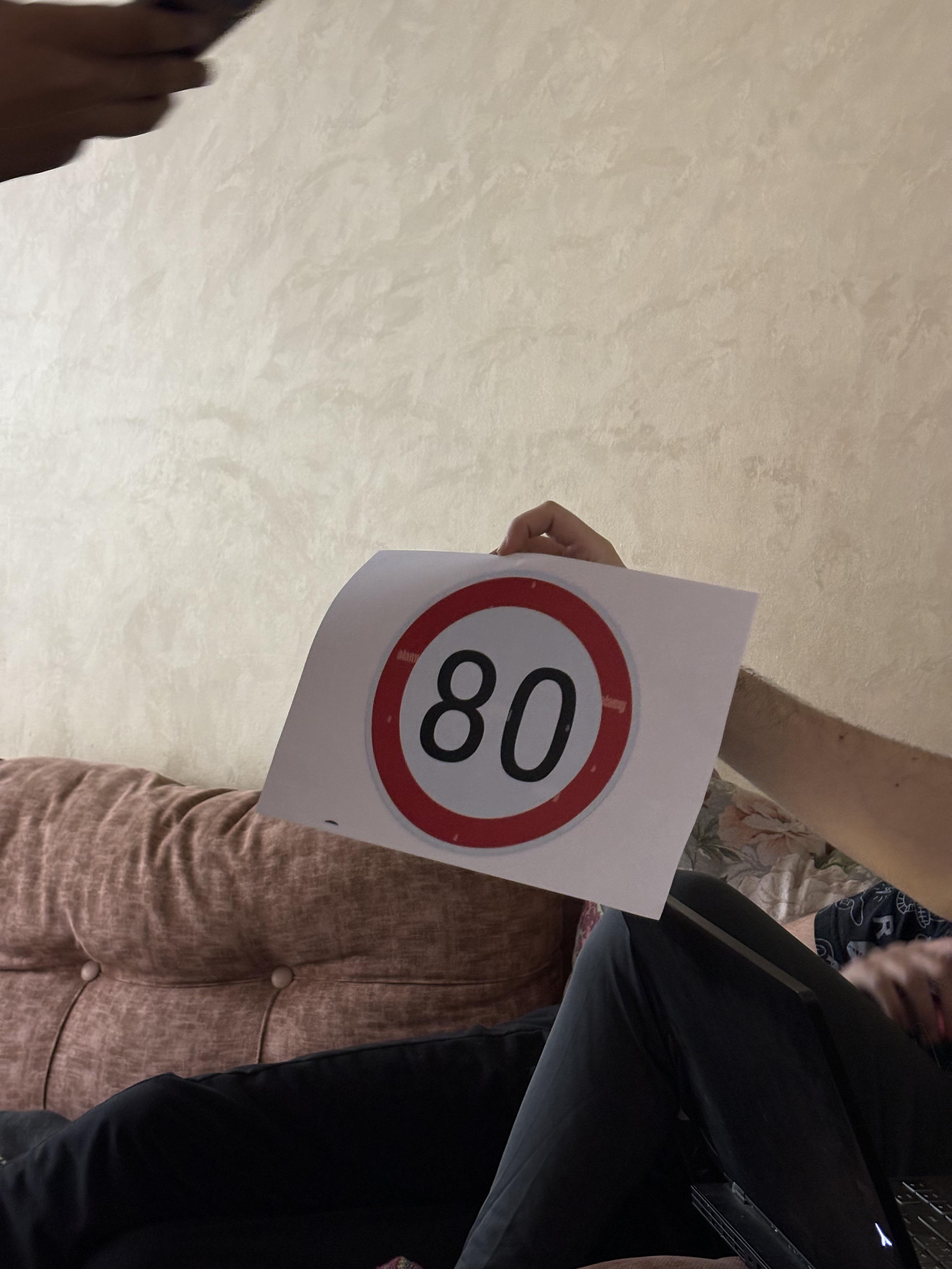80-Speed: (360, 558, 644, 850)
